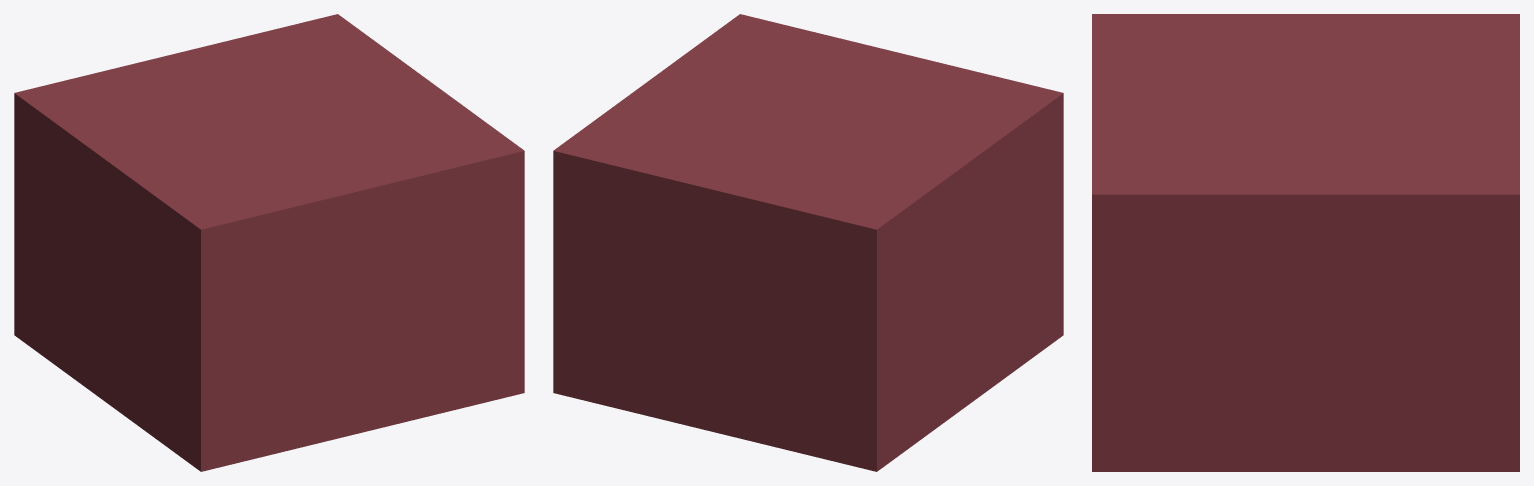
File: platform_02.fbx
The picture shows the model from 3 angles, left to right: view 1: azimuth 30°, elevation 25°; view 2: azimuth 150°, elevation 25°; view 3: azimuth 270°, elevation 25°; orthographic projection. The views are drawn at different scales.
Visible parts, largest first — view 1: Platform; view 2: Platform; view 3: Platform.
Boxes of the visible parts, box(x1,y1,x2,y2) form: Platform: box(14, 14, 524, 471); Platform: box(553, 14, 1063, 471); Platform: box(1092, 14, 1519, 471).
Bounding box in the file's own units: 200 × 143 × 200.
